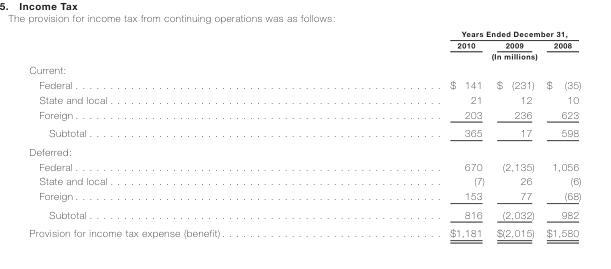table: (28, 29, 580, 238)
table column: (28, 29, 336, 238), (336, 29, 490, 238), (490, 29, 539, 238), (539, 29, 580, 238)
table column header: (28, 29, 580, 62)
table projected row header: (28, 142, 580, 158), (28, 62, 580, 77)
table row: (28, 123, 580, 142), (28, 205, 580, 223), (28, 106, 580, 123), (28, 188, 580, 205), (28, 142, 580, 158), (28, 62, 580, 77), (28, 77, 580, 92), (28, 158, 580, 173), (28, 173, 580, 188), (28, 223, 580, 238), (28, 92, 580, 106), (28, 50, 580, 62), (28, 39, 580, 50), (28, 29, 580, 39)
table spanning cell: (336, 50, 580, 62), (336, 29, 580, 39)
